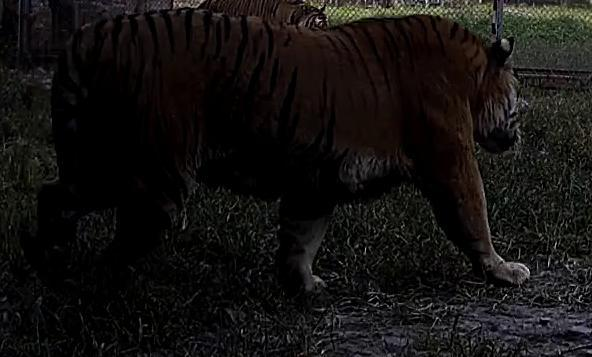tiger: (23, 8, 528, 293)
